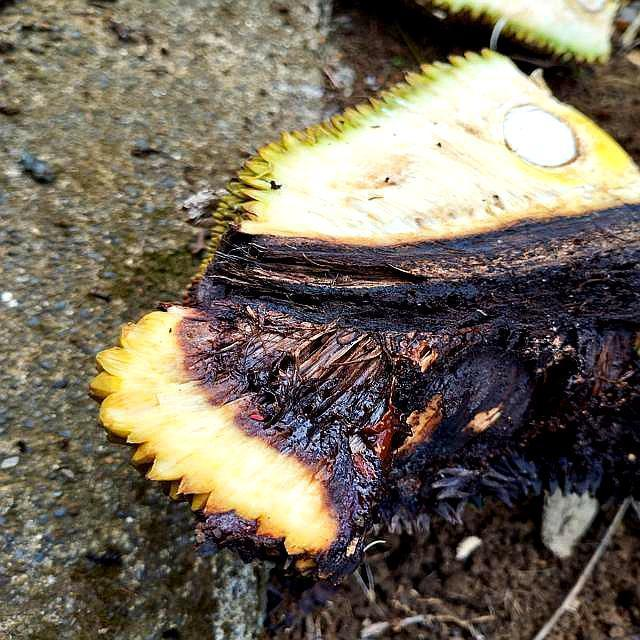Biodegradable: (165, 101, 640, 577)
